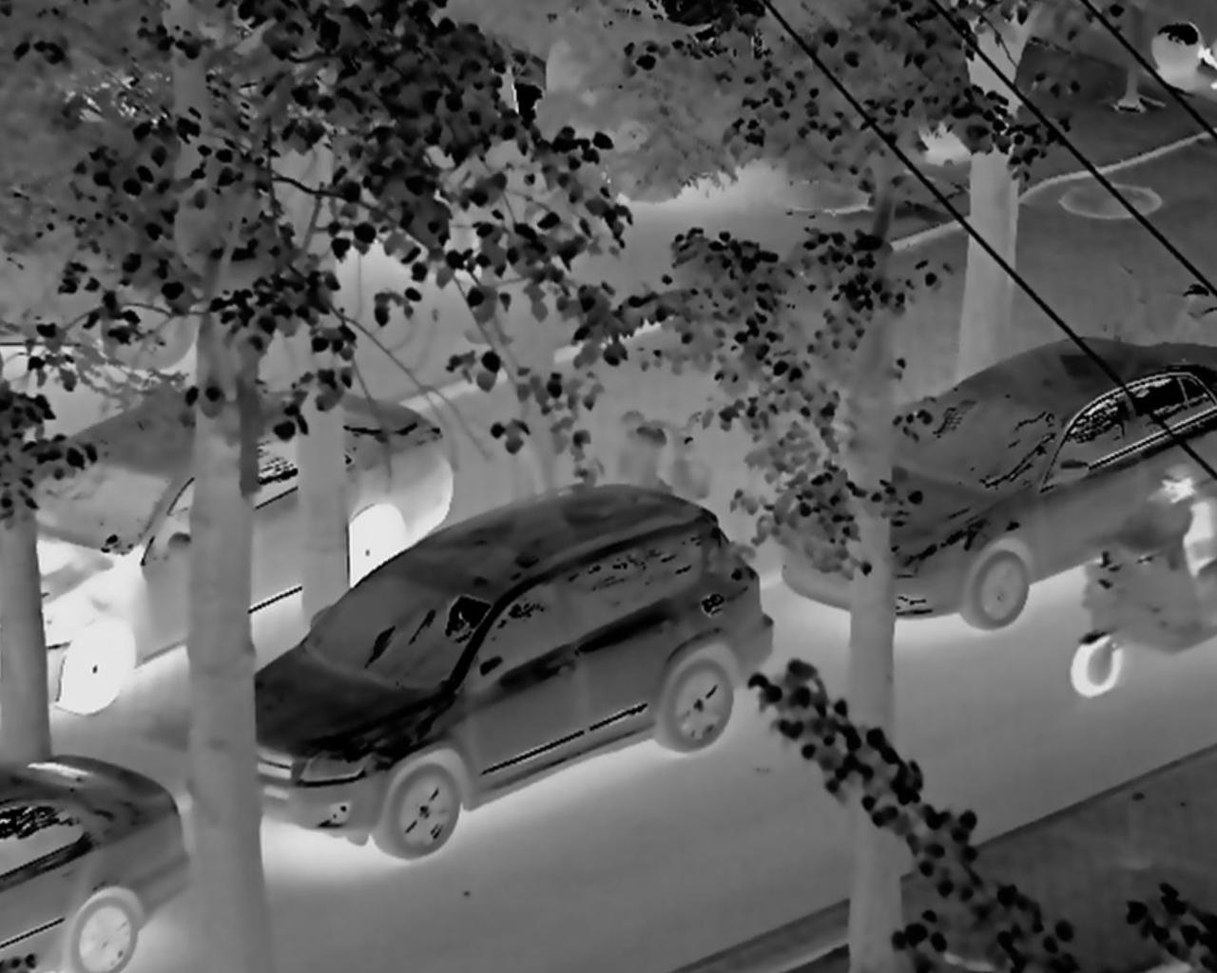person: (1100, 453, 1207, 702)
